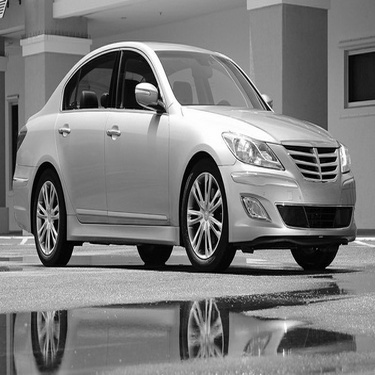car: (1, 41, 364, 273)
